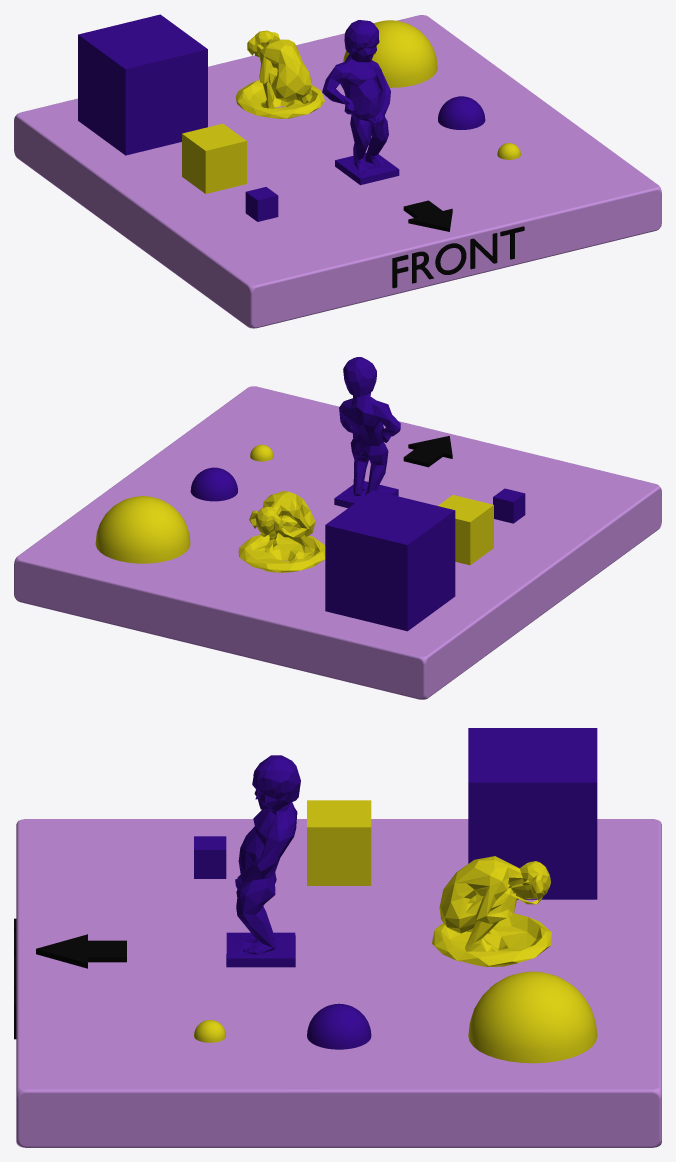
Rendered from t_debug.glb.
3 views of the same model, one above another, from view 1: azimuth 30°, elevation 25°; view 2: azimuth 150°, elevation 25°; view 3: azimuth 270°, elevation 25° (orthographic). The views are drawn at different scales.
Visible parts, largest first — view 1: t_Debug; view 2: t_Debug; view 3: t_Debug.
Part boxes in pixels (x1=…): t_Debug: x1=14, y1=14, x2=661, y2=328; t_Debug: x1=14, y1=357, x2=661, y2=699; t_Debug: x1=14, y1=728, x2=661, y2=1147.
Bounding box in the file's own units: 10 × 4.38 × 10.04.
